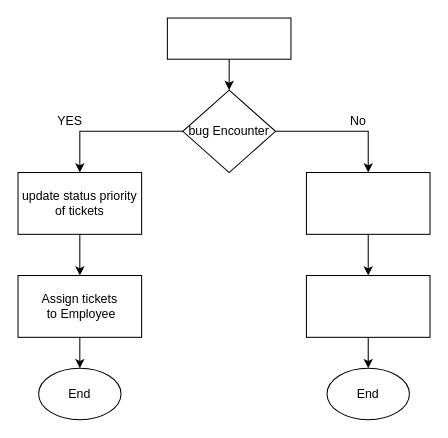
Some shapes in this 448 by 438 pixel diagram are drawn without their labels. Each missing label, with the centre of its shape:
Admin: point 228,38
update priority of tickets: point 367,305
View Previously assigned tickets: point 367,202
